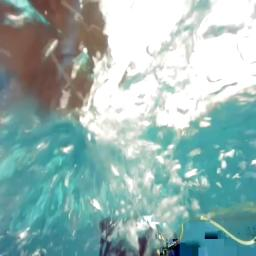Full: (98, 218, 178, 256)
